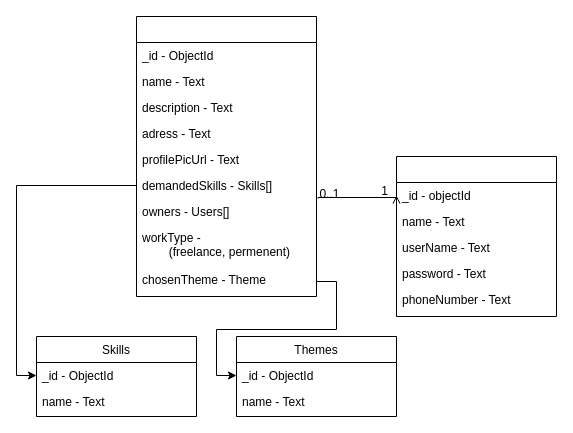
The diagram is 573 pixels wide and 433 high, and some of its shapes have lost their labels. Here are the shapes that lost their labels. From the top down, the box of each, then its label:
(136, 16, 316, 296): Workplaces
(396, 156, 556, 316): Users
